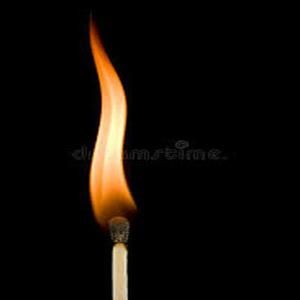fire: (81, 15, 142, 218)
